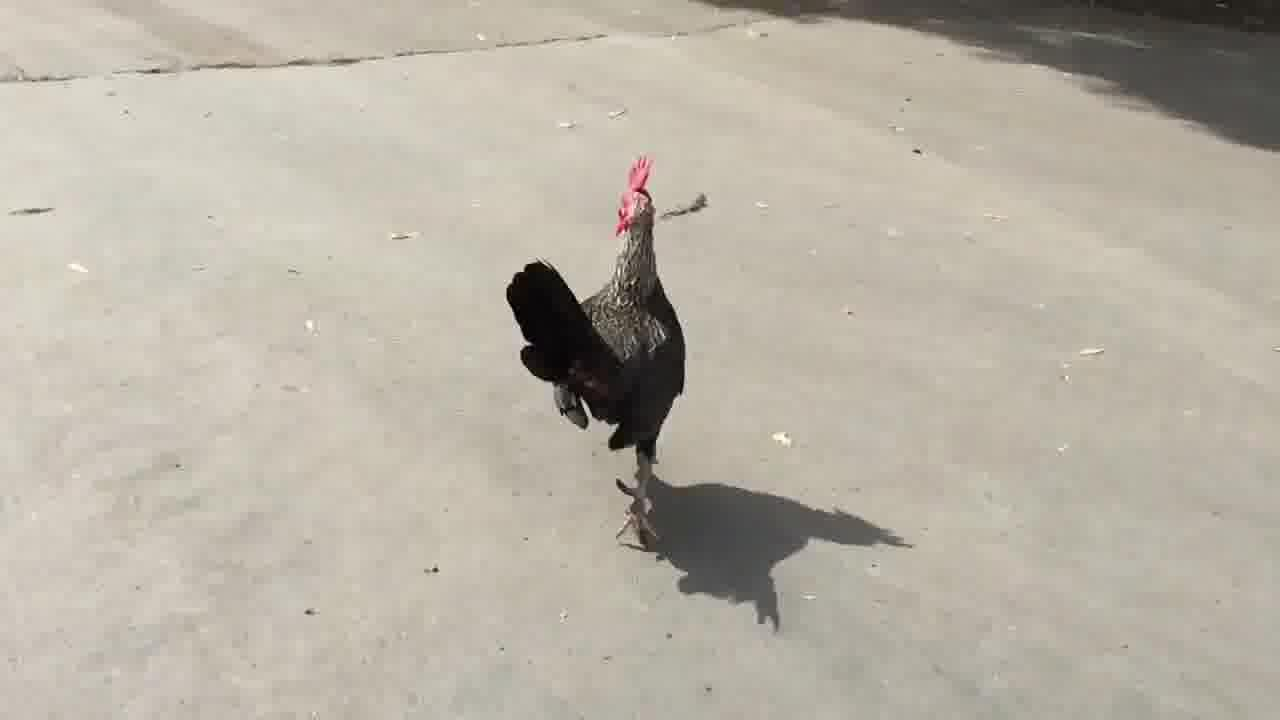Normal: (506, 144, 706, 540)
